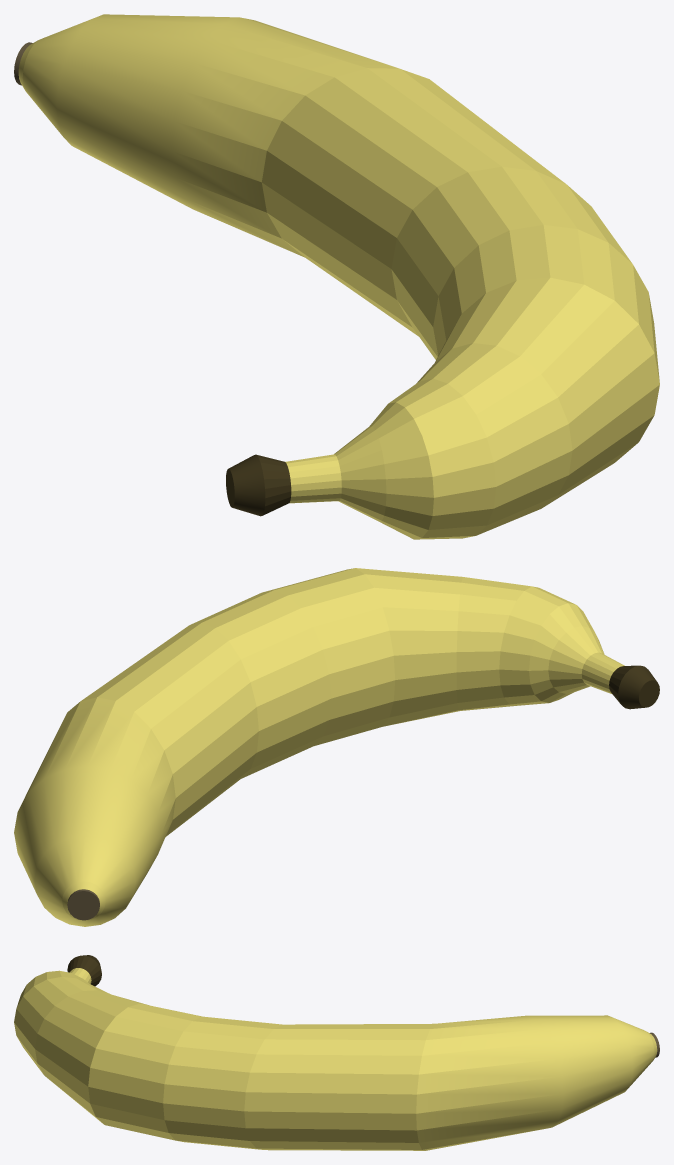
File: banana.fbx
The picture shows the model from 3 angles, top to bottom: view 1: azimuth 30°, elevation 25°; view 2: azimuth 150°, elevation 25°; view 3: azimuth 270°, elevation 25°; orthographic projection. The views are drawn at different scales.
Visible parts, largest first — view 1: pCylinder1; view 2: pCylinder1; view 3: pCylinder1.
Boxes of the visible parts, x1,y1,x2,y2 form: pCylinder1: (14,14,659,539); pCylinder1: (14,568,659,926); pCylinder1: (14,955,659,1150).
Bounding box in the file's own units: 11.21 × 4.06 × 20.43.
